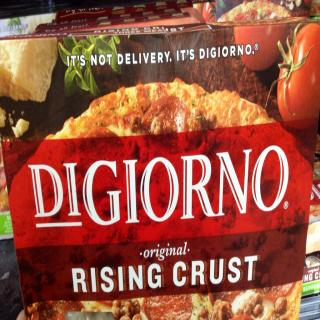tomato: (274, 36, 318, 115)
